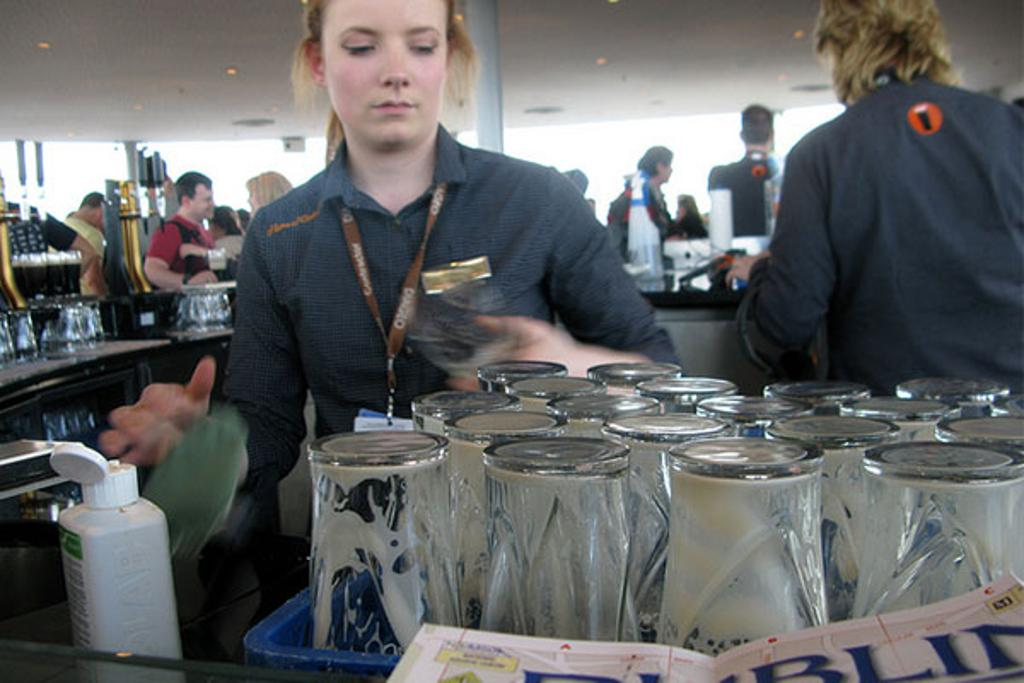face: (328, 3, 447, 146), (190, 186, 213, 217), (248, 189, 267, 218), (659, 158, 672, 183), (207, 218, 221, 240), (677, 201, 684, 217)
